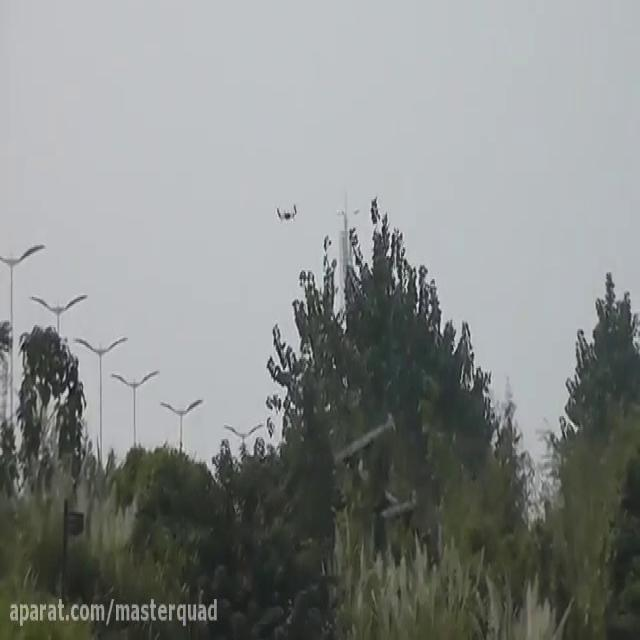drone: (272, 192, 301, 226)
